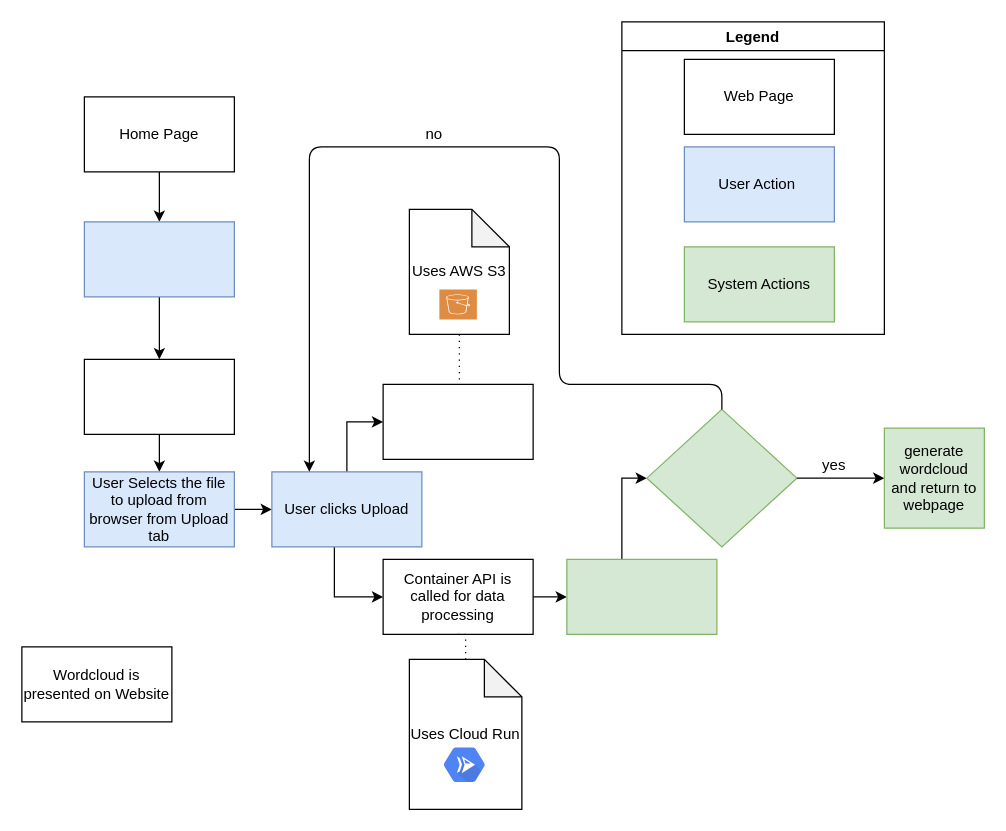
The diagram is 1006 pixels wide and 831 high, and some of its shapes have lost their labels. Each missing label, with the centre of its shape:
"checks if file is of supported format" belongs at point (721, 477).
"Cloud Run" belongs at point (463, 764).
"Container fetches data from S3, processes it and generates wordcloud" belongs at point (641, 596).
"Data is saved to S3 bucket" belongs at point (457, 421).
"User Logs in" belongs at point (158, 259).
"Welcome Page" belongs at point (158, 396).
